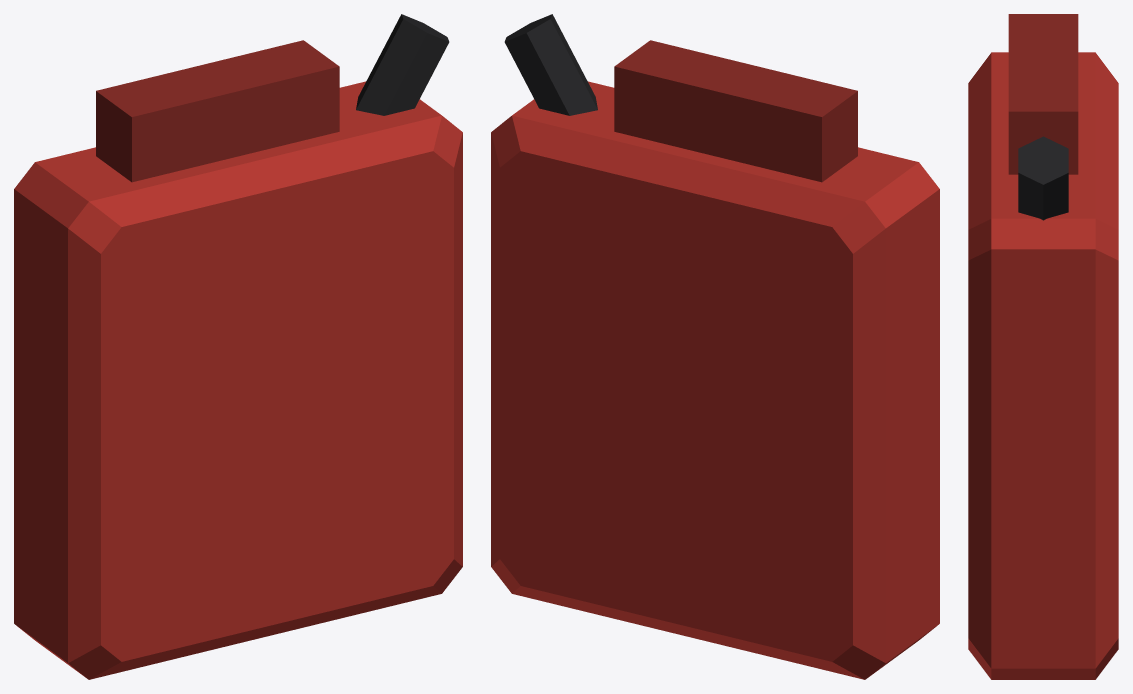
Rendered from SM_Prop_GasCan_01.glb.
3 views of the same model, side by side, from view 1: azimuth 30°, elevation 25°; view 2: azimuth 150°, elevation 25°; view 3: azimuth 270°, elevation 25° (orthographic). The views are drawn at different scales.
Parts seen in each view (by area): view 1: SM_Prop_GasCan_01; view 2: SM_Prop_GasCan_01; view 3: SM_Prop_GasCan_01.
Part boxes in pixels (<box>): SM_Prop_GasCan_01: <box>14,14,462,679</box>; SM_Prop_GasCan_01: <box>491,14,939,679</box>; SM_Prop_GasCan_01: <box>968,14,1118,679</box>.
Size of the model in its own units: 0.3912 by 0.5132 by 0.13.
1 material, 1 textured.
